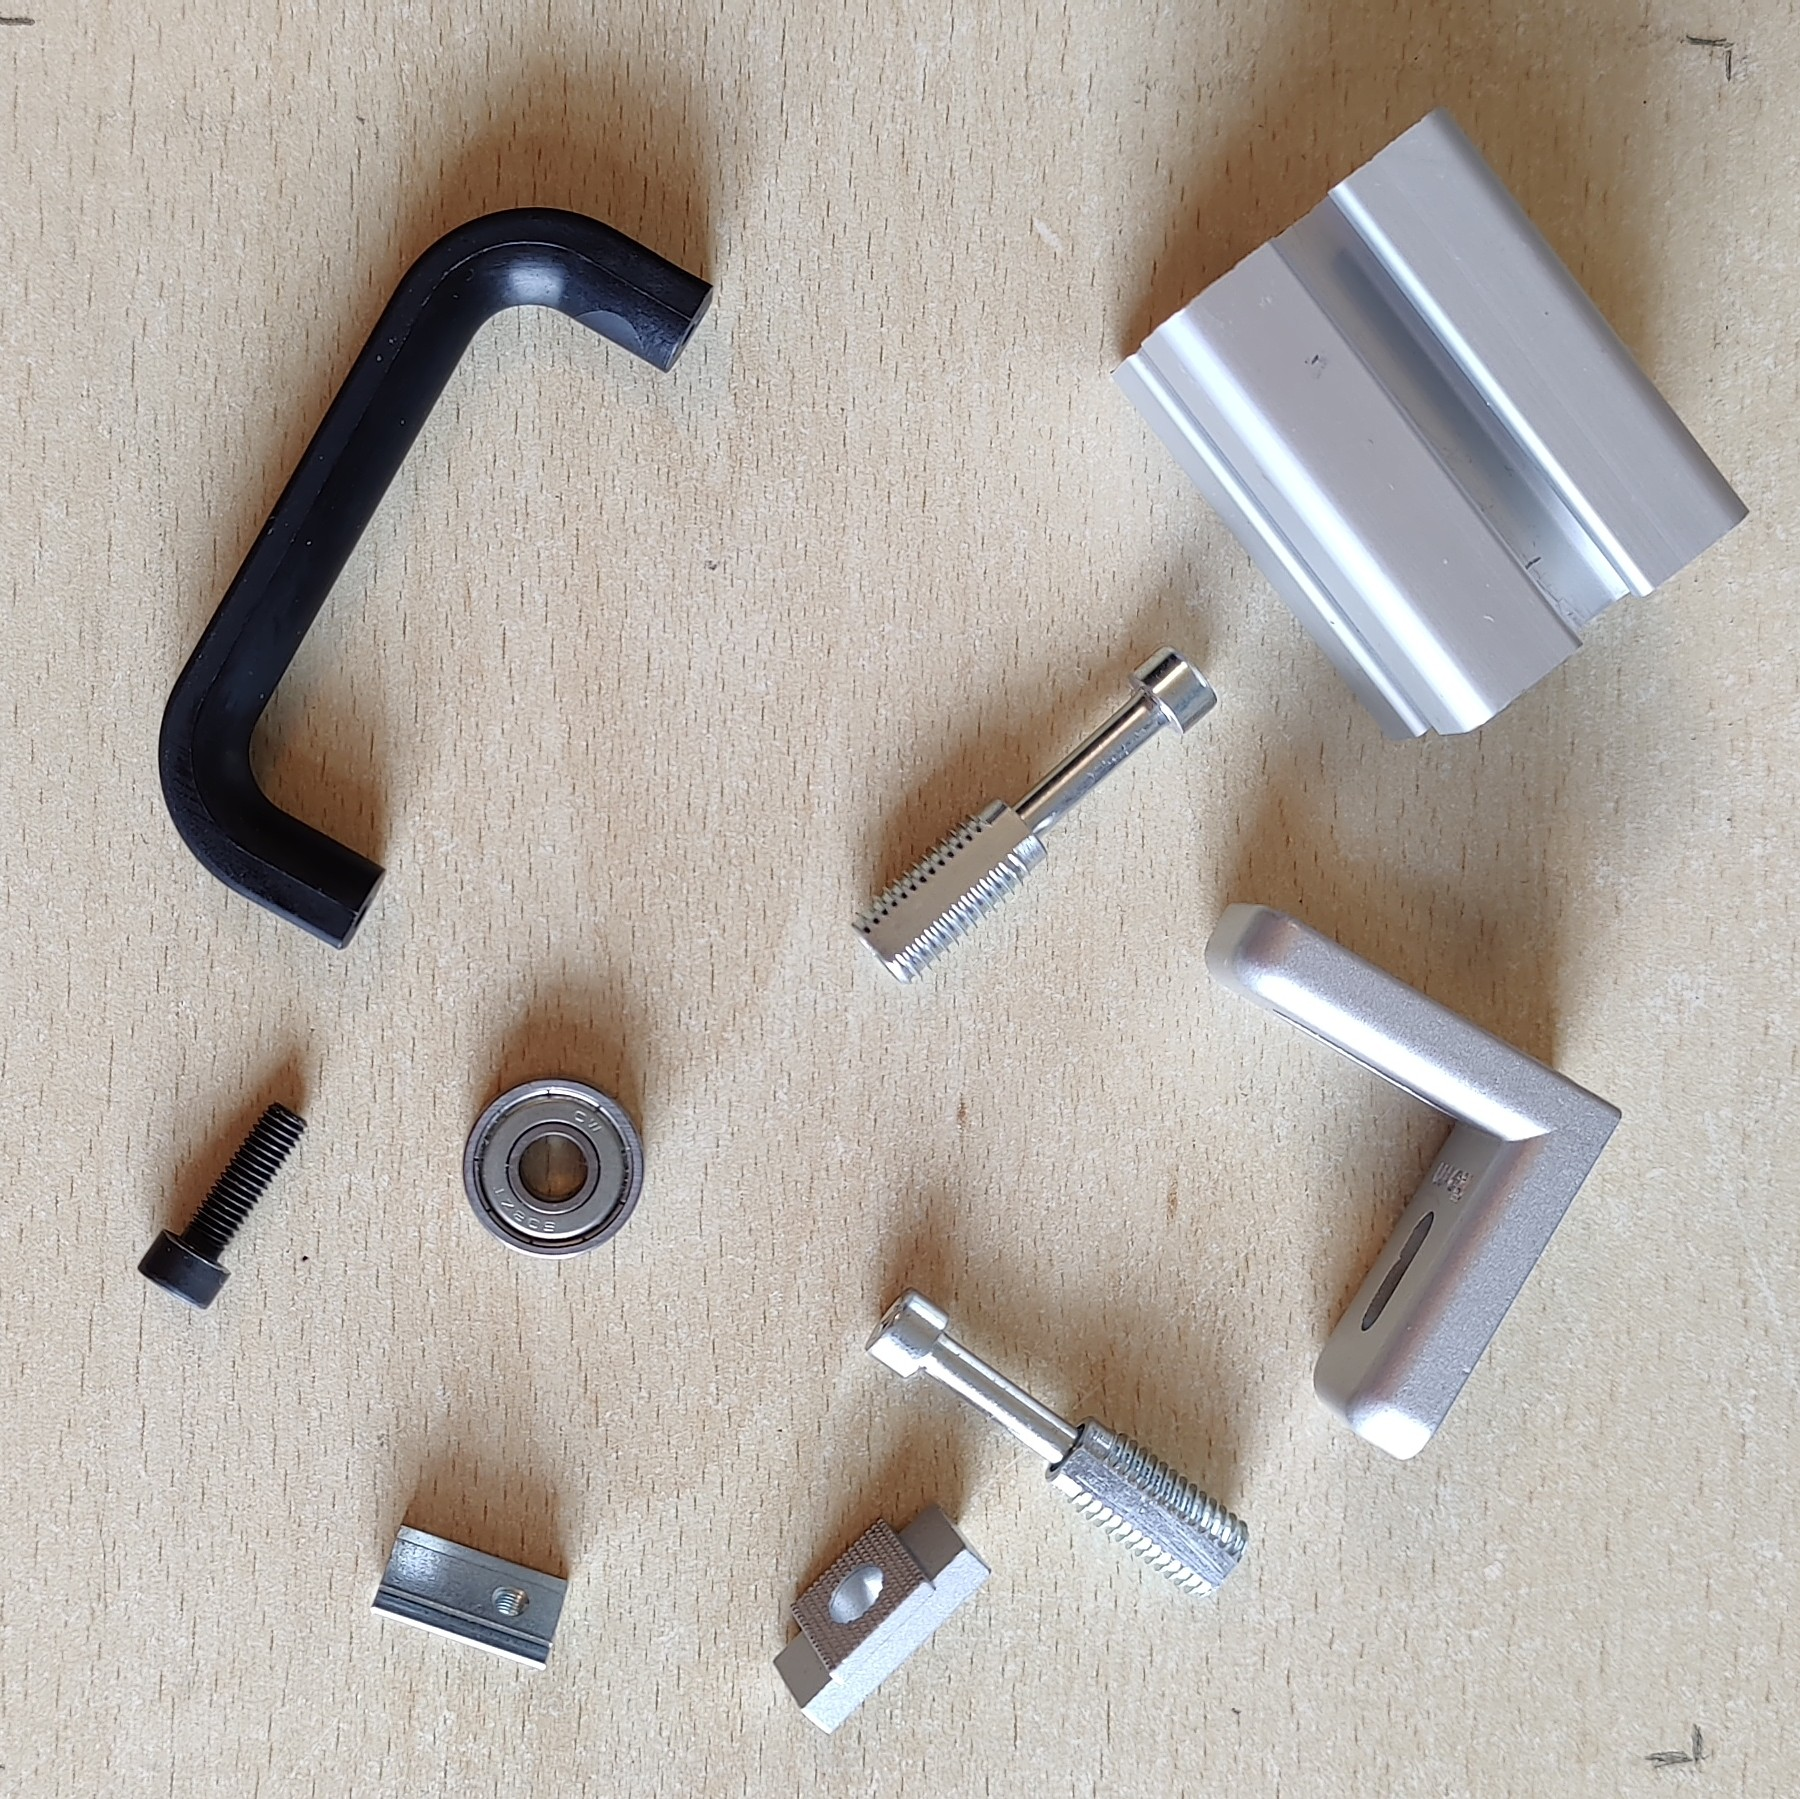Aluminium Extension: (1107, 105, 1751, 745)
Ball Bearing: (461, 1072, 642, 1257)
Multiwinkel: (1204, 898, 1625, 1465)
Pull Handle: (156, 204, 716, 952)
Shoulder Socket Head Cap Screw: (846, 641, 1217, 988), (860, 1287, 1252, 1600)
Socket Head Cap Screw: (135, 1096, 311, 1313)
T Nut Square: (769, 1499, 991, 1740)
T Spring Nut: (369, 1522, 570, 1674)
